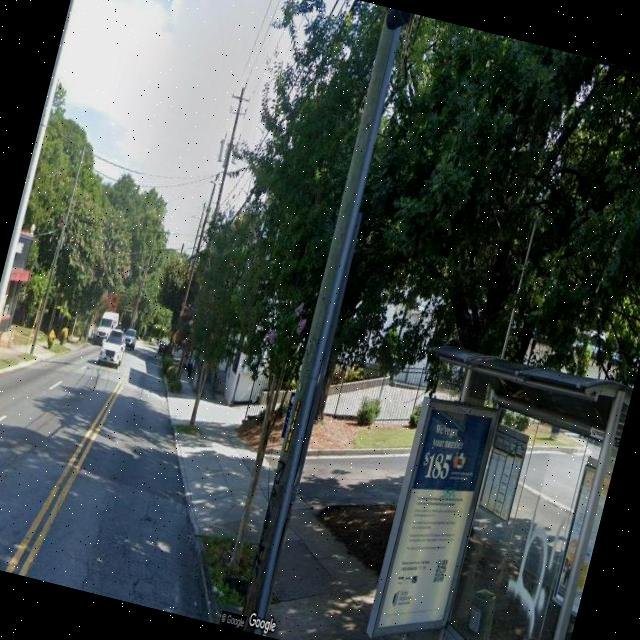shelter: (352, 336, 633, 640)
